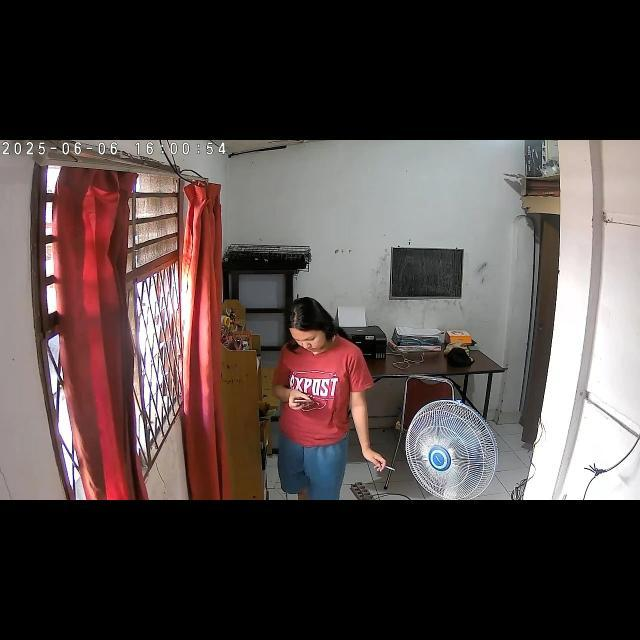rokok: (375, 458, 397, 474)
